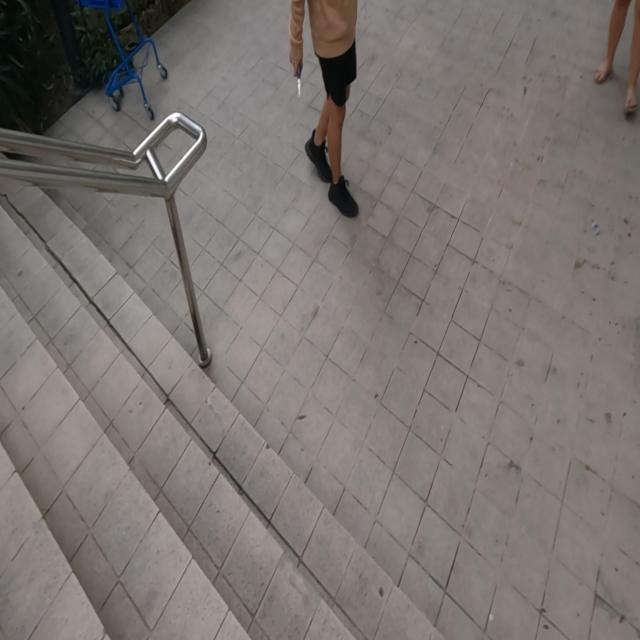scissor: (291, 59, 305, 98)
